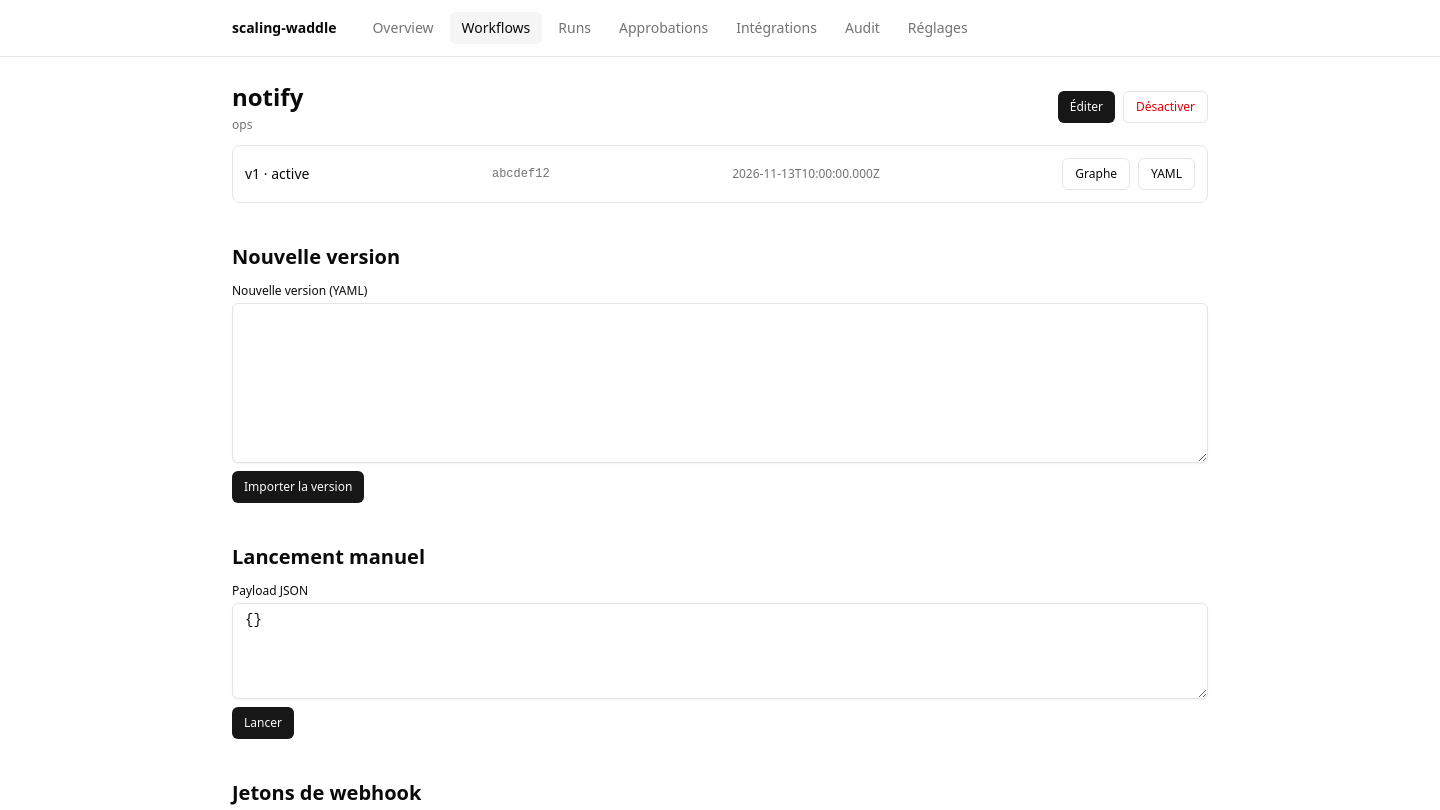
it: App routing › opens the visual editor in full width from a workflow
Click the button "Éditer".
click(1086, 107)  # box [1058,91,1115,123]
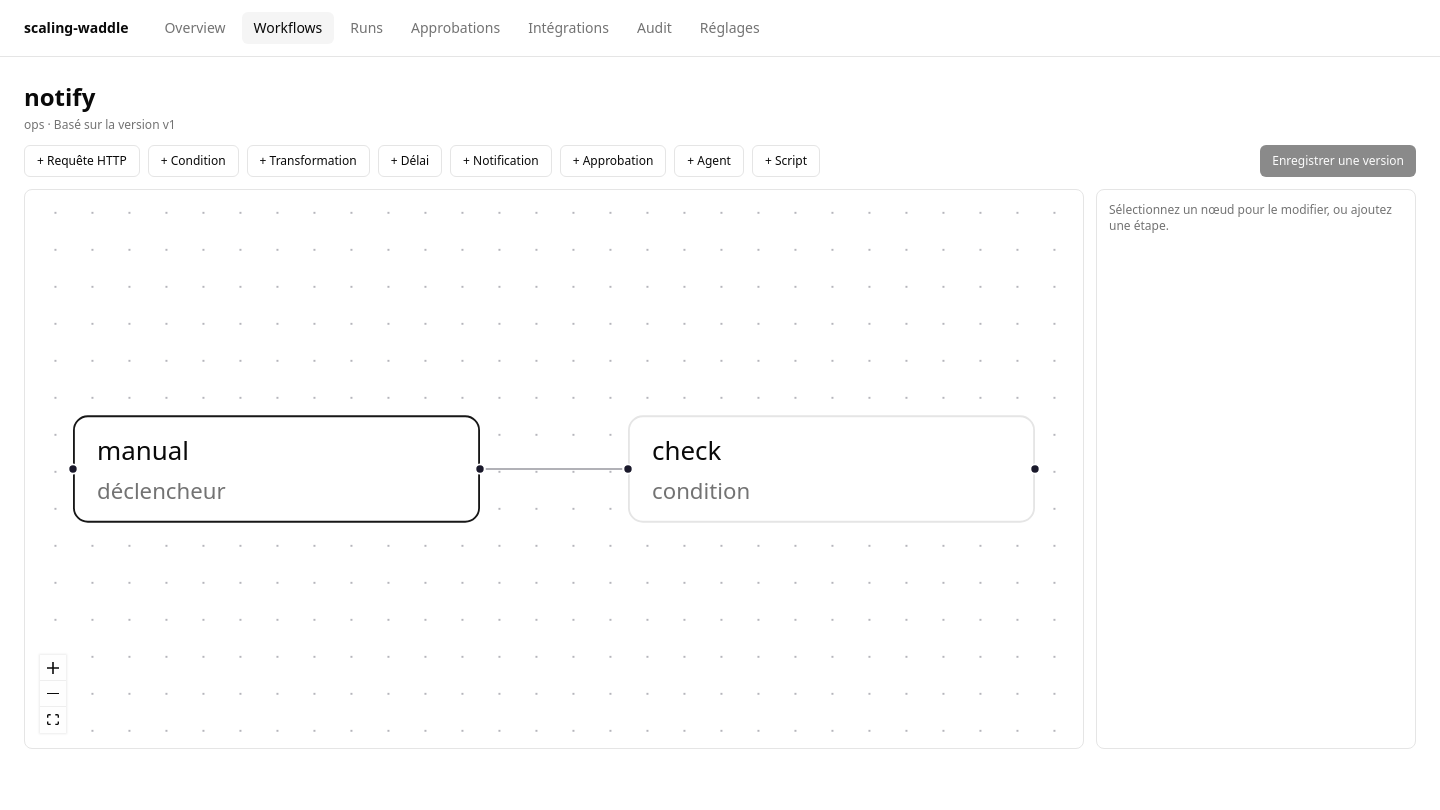
Now the button "Enregistrer une version" is shown, box [1260,145,1416,177]
